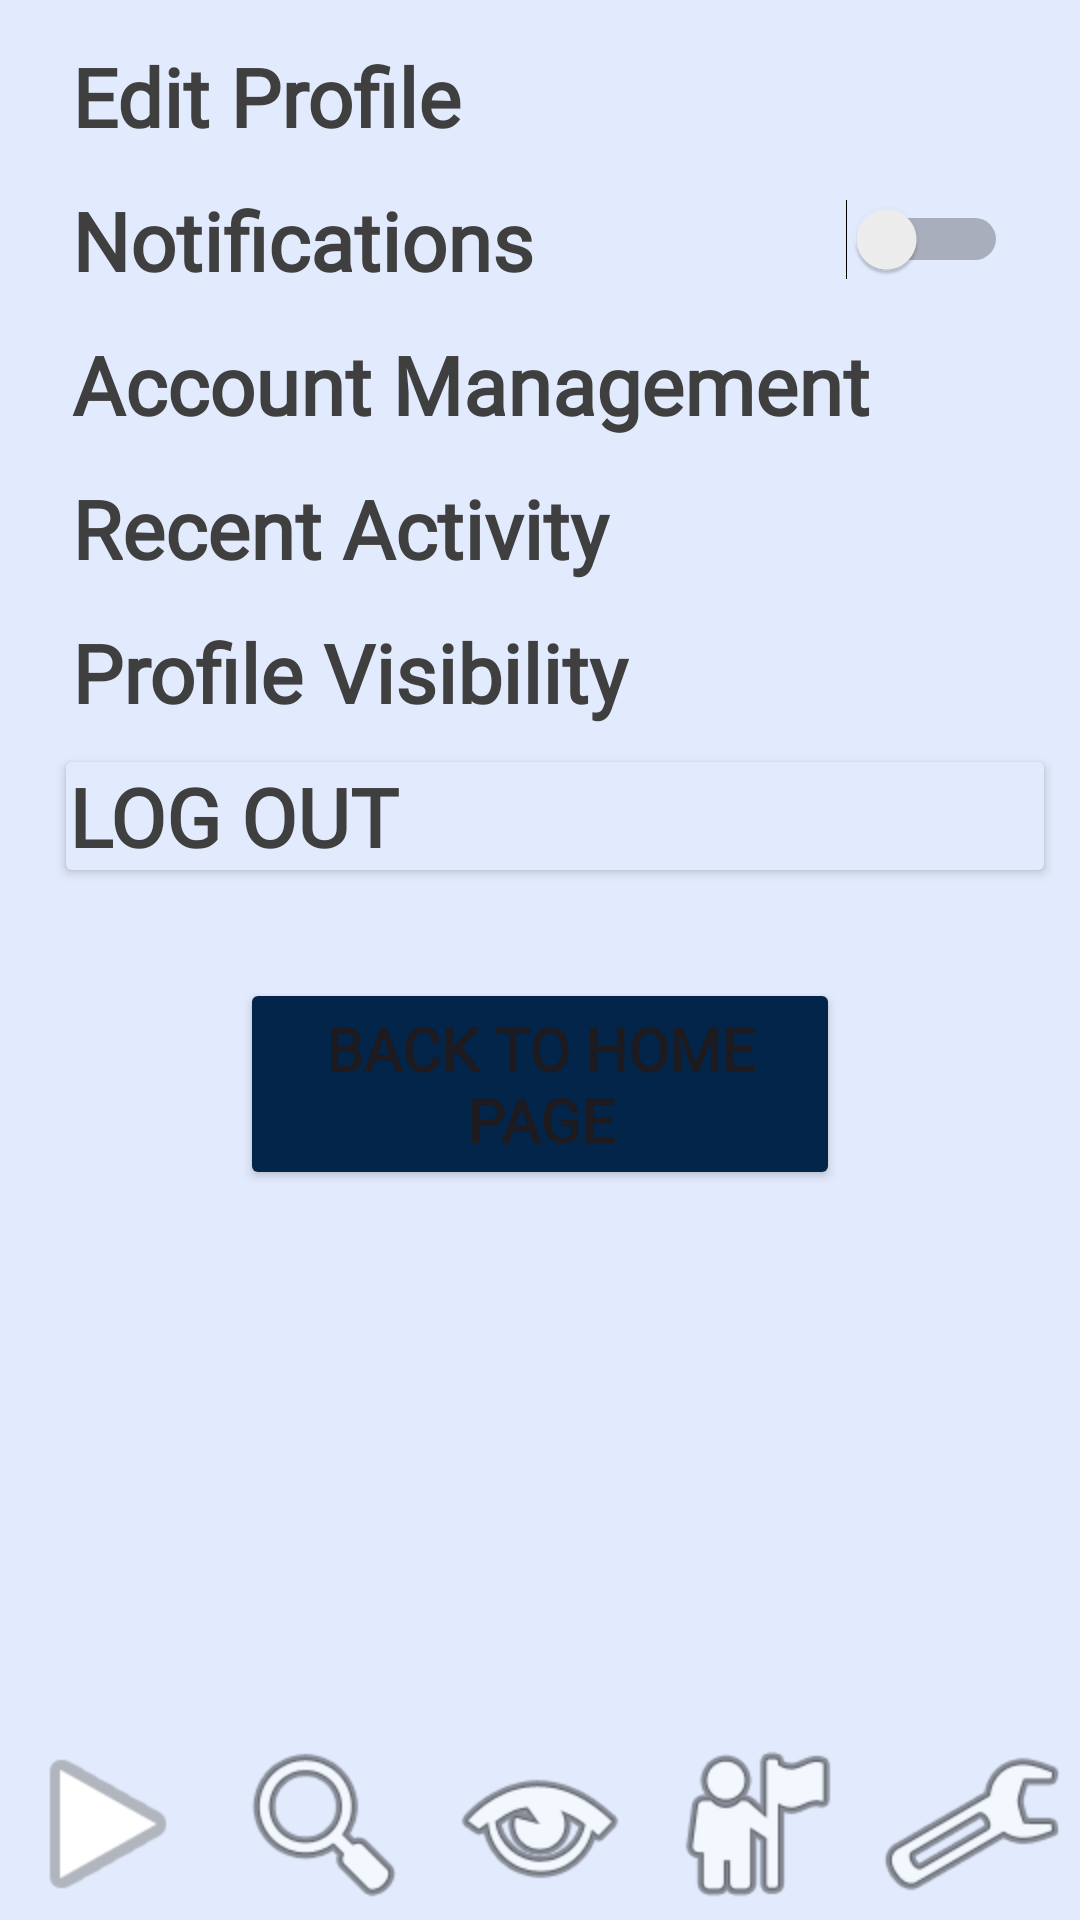

Point at icon controls on the screen. Image size 1080w x 1920h, points as [x,y].
Profile: [758,1824]
Search: [324,1825]
Settings: [972,1824]
